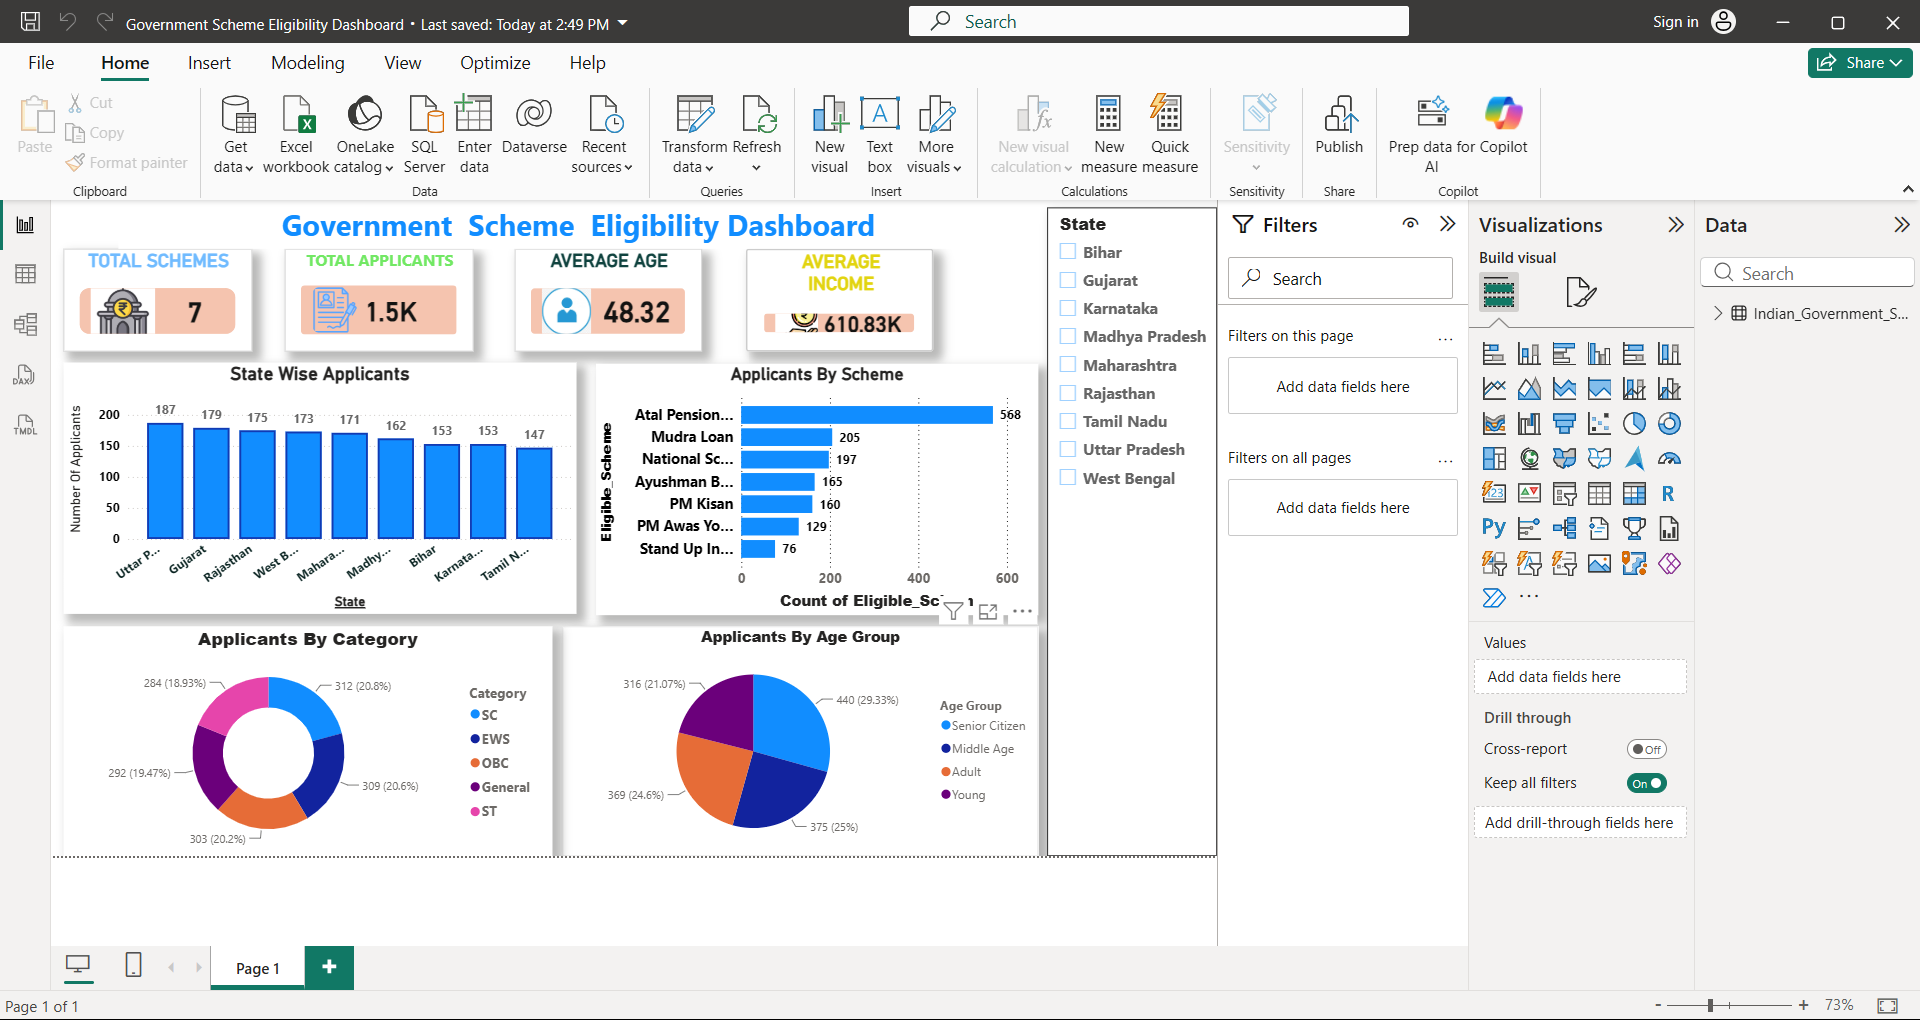

Layout of this report page (visuals, bound fields, positions):
{"tool":"powerbi","page":{"name":"Page 1","canvas":[1280,720],"ordinal":0},"visuals":[{"type":"cardVisual","title":"TOTAL APPLICANTS","fields":{"Data":["CountNonNull(Indian_Government_Scheme_Eligibility_Dataset.Age)"]},"box":[256.6,53.5,207.2,112.5],"z":0},{"type":"cardVisual","title":"TOTAL SCHEMES","fields":{"Data":["Count(Indian_Government_Scheme_Eligibility_Dataset.Eligible_Scheme)"]},"box":[13.7,53.5,207.2,112.5],"z":1000},{"type":"cardVisual","title":"AVERAGE AGE","fields":{"Data":["Avg(Indian_Government_Scheme_Eligibility_Dataset.Age)"]},"box":[509.1,53.5,205.8,112.5],"z":2000},{"type":"cardVisual","title":"AVERAGE INCOME","fields":{"Data":["Avg(Indian_Government_Scheme_Eligibility_Dataset.Annual_Income_INR)"]},"box":[763,53.5,205.8,112.5],"z":3000},{"type":"clusteredBarChart","title":"Applicants By Scheme","fields":{"Category":["Indian_Government_Scheme_Eligibility_Dataset.Eligible_Scheme"],"Y":["CountNonNull(Indian_Government_Scheme_Eligibility_Dataset.Eligible_Scheme)"]},"box":[598.6,180,485.7,275.7],"z":4000},{"type":"clusteredColumnChart","title":"State Wise  Applicants","fields":{"Category":["Indian_Government_Scheme_Eligibility_Dataset.State"],"Y":["CountNonNull(Indian_Government_Scheme_Eligibility_Dataset.State)"]},"box":[14.3,178.6,562.9,275.7],"z":5000},{"type":"pieChart","title":"Applicants By Age Group","fields":{"Category":["Indian_Government_Scheme_Eligibility_Dataset.Age Group"],"Y":["CountNonNull(Indian_Government_Scheme_Eligibility_Dataset.Age)"]},"box":[561.2,467.9,522.8,252.5],"z":6000},{"type":"slicer","fields":{"Values":["Indian_Government_Scheme_Eligibility_Dataset.State"]},"box":[1093.7,8.2,186.6,712.2],"z":7000},{"type":"donutChart","title":"Applicants  By Category","fields":{"Category":["Indian_Government_Scheme_Eligibility_Dataset.Category"],"Y":["CountNonNull(Indian_Government_Scheme_Eligibility_Dataset.Category)"]},"box":[13.7,467.9,536.5,252.5],"z":8000},{"type":"textbox","box":[74.1,0,1010,53.5],"z":9000}]}

Visuals, with their boxes on the page's 1280x720 design canvas (x1, y1, x2, y2). These are canvas units, not pixel positions in the 1920x1020 screenshot, which may show the page scaled, cropped or inside an application window:
"TOTAL APPLICANTS" cardVisual: left=257, top=54, right=464, bottom=166
"TOTAL SCHEMES" cardVisual: left=14, top=54, right=221, bottom=166
"AVERAGE AGE" cardVisual: left=509, top=54, right=715, bottom=166
"AVERAGE INCOME" cardVisual: left=763, top=54, right=969, bottom=166
"Applicants By Scheme" clusteredBarChart: left=599, top=180, right=1084, bottom=456
"State Wise  Applicants" clusteredColumnChart: left=14, top=179, right=577, bottom=454
"Applicants By Age Group" pieChart: left=561, top=468, right=1084, bottom=720
slicer - Indian_Government_Scheme_Eligibility_Dataset.State: left=1094, top=8, right=1280, bottom=720
"Applicants  By Category" donutChart: left=14, top=468, right=550, bottom=720
textbox: left=74, top=0, right=1084, bottom=54
